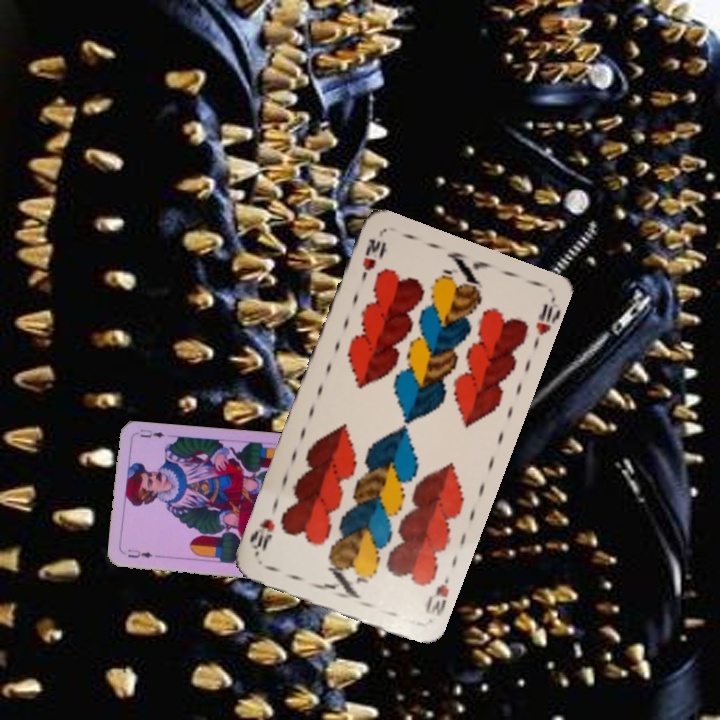EU: (124, 545, 155, 561)
H10: (357, 234, 387, 284), (421, 572, 452, 619)
